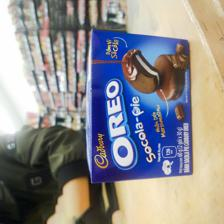Oreo: (81, 28, 197, 184)
